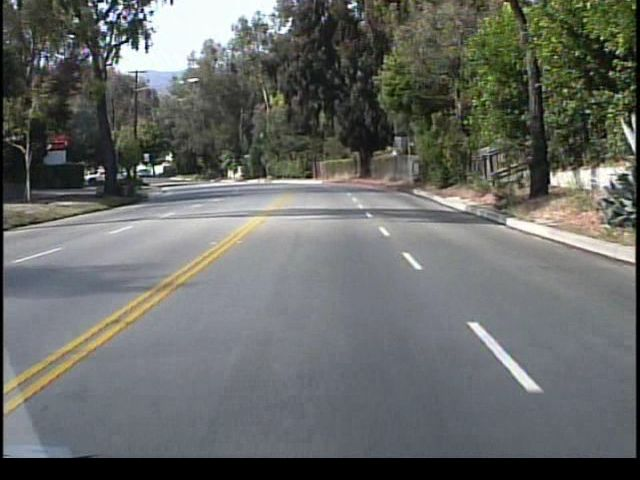strada: (0, 182, 640, 443)
